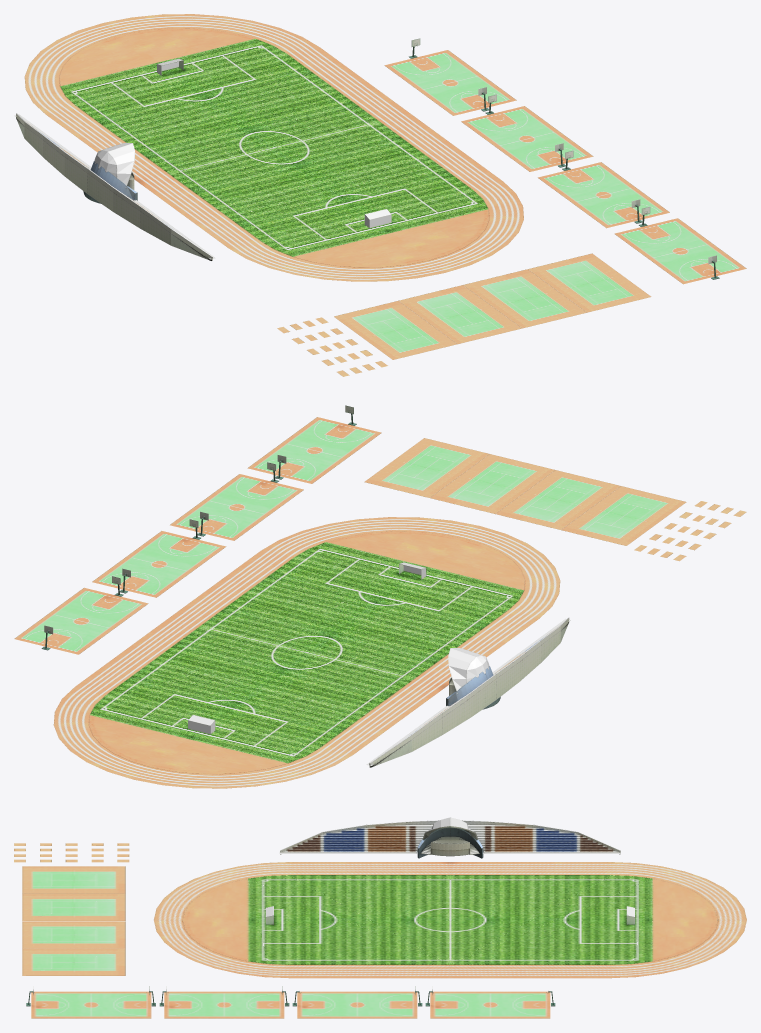
File: playgroundTexture1.glb
3 views of the same model, one above another, from view 1: azimuth 30°, elevation 25°; view 2: azimuth 150°, elevation 25°; view 3: azimuth 270°, elevation 25° (orthographic). The views are drawn at different scales.
Visible parts, largest first — view 1: 操场_1; view 2: 操场_1; view 3: 操场_1.
Boxes of the visible parts, bbox=[...] form: 操场_1: bbox=[14, 14, 746, 376]; 操场_1: bbox=[14, 405, 746, 788]; 操场_1: bbox=[14, 817, 746, 1018].
Size of the model in its own units: 97.59 by 9.9 by 171.
1 material, 1 textured.
